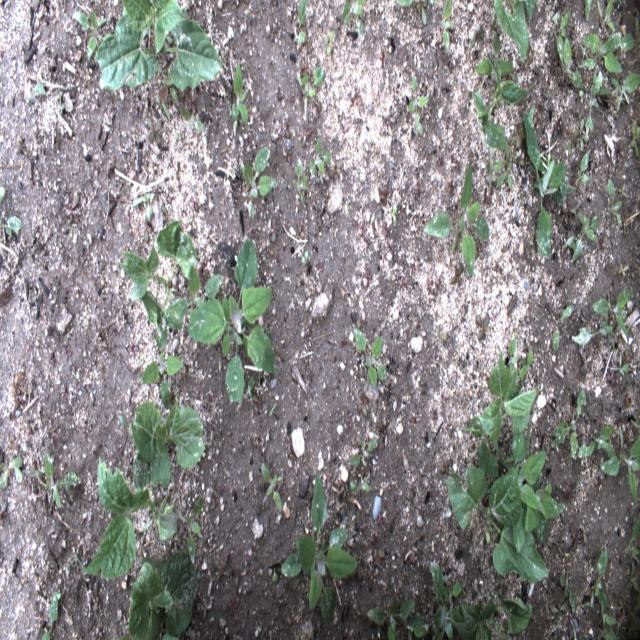crop: (444, 436, 550, 584), (82, 434, 178, 578), (94, 0, 224, 91), (118, 220, 198, 332), (466, 349, 538, 446), (128, 550, 200, 639), (130, 394, 204, 469), (472, 78, 536, 154), (451, 591, 532, 639), (494, 0, 537, 64)
weed: (187, 237, 276, 406), (281, 473, 358, 624), (482, 420, 566, 554), (423, 162, 490, 279), (523, 107, 566, 260), (405, 560, 469, 640), (458, 416, 531, 478), (140, 322, 183, 410), (599, 424, 639, 510), (26, 450, 83, 510), (169, 266, 224, 325), (241, 147, 277, 220), (551, 390, 587, 459), (71, 10, 119, 61), (592, 285, 633, 344), (532, 153, 576, 207), (352, 326, 388, 389), (592, 73, 640, 119), (476, 33, 514, 88), (366, 598, 415, 640), (579, 59, 603, 142), (582, 549, 609, 611), (583, 31, 622, 73), (555, 35, 583, 88), (186, 497, 206, 568), (570, 215, 599, 263), (578, 424, 615, 461), (407, 72, 429, 134), (0, 183, 24, 237), (230, 63, 248, 130), (616, 516, 640, 566), (550, 304, 574, 351), (261, 462, 283, 512), (570, 320, 614, 345), (342, 0, 368, 42), (40, 590, 59, 640), (308, 139, 333, 177), (349, 436, 378, 468), (302, 65, 328, 99), (560, 561, 576, 616), (607, 178, 623, 229), (159, 66, 179, 106), (618, 16, 640, 52), (552, 9, 571, 50), (132, 191, 156, 223), (0, 457, 23, 489), (293, 0, 309, 46), (180, 104, 206, 132), (349, 471, 371, 504), (294, 156, 308, 207), (573, 150, 592, 187), (499, 56, 519, 90), (440, 0, 452, 55), (596, 0, 616, 31), (64, 191, 83, 223), (22, 75, 46, 100), (496, 155, 513, 190), (592, 618, 620, 639), (486, 157, 503, 191), (64, 554, 86, 580), (474, 310, 491, 343), (118, 406, 140, 431), (504, 332, 518, 370), (213, 556, 231, 584), (600, 602, 617, 631), (518, 348, 534, 378), (576, 45, 594, 71), (146, 116, 162, 145), (155, 95, 172, 122), (554, 235, 577, 254), (450, 260, 465, 288), (514, 120, 528, 150), (578, 348, 593, 376), (160, 203, 176, 229), (574, 118, 586, 152), (626, 565, 640, 594), (564, 126, 578, 155), (356, 390, 370, 418), (265, 217, 280, 243), (415, 0, 430, 26), (320, 31, 334, 57), (568, 524, 580, 554), (242, 374, 255, 401), (516, 42, 530, 67), (434, 325, 447, 351), (470, 26, 484, 50), (300, 125, 313, 149), (435, 553, 448, 577), (613, 136, 625, 162), (141, 215, 152, 243), (329, 156, 343, 178), (632, 119, 640, 157), (571, 208, 588, 225), (266, 19, 278, 43), (440, 458, 455, 477), (90, 584, 100, 612), (185, 0, 197, 23), (397, 0, 435, 7), (267, 400, 279, 422), (0, 500, 8, 532), (550, 600, 566, 616), (619, 352, 629, 377), (578, 524, 591, 543), (327, 469, 338, 491), (616, 261, 630, 278), (278, 119, 290, 138), (300, 35, 312, 54), (512, 146, 524, 165), (554, 536, 564, 558), (621, 346, 632, 366), (619, 213, 629, 235), (489, 8, 499, 30), (282, 142, 292, 163), (630, 412, 640, 433), (378, 182, 387, 205), (369, 219, 379, 239), (287, 444, 297, 464), (446, 174, 457, 192), (520, 56, 532, 72), (425, 276, 435, 295), (377, 50, 387, 69), (172, 127, 183, 144), (585, 0, 593, 23), (123, 208, 133, 226), (189, 196, 200, 212), (397, 274, 408, 290), (385, 238, 396, 254), (451, 154, 462, 170), (433, 276, 442, 295), (358, 218, 367, 237), (507, 134, 516, 153), (300, 249, 310, 266), (381, 220, 391, 237), (364, 267, 372, 288), (414, 182, 424, 198), (284, 436, 294, 452), (313, 102, 322, 119), (618, 182, 627, 199), (606, 371, 616, 386), (95, 623, 104, 639), (608, 332, 616, 350), (362, 232, 372, 246), (392, 203, 398, 226), (369, 530, 378, 544), (359, 517, 367, 532), (377, 510, 385, 524), (351, 218, 360, 230), (435, 152, 443, 165), (365, 372, 371, 389), (53, 591, 61, 602), (345, 416, 352, 428), (125, 242, 133, 252), (588, 550, 593, 565)
